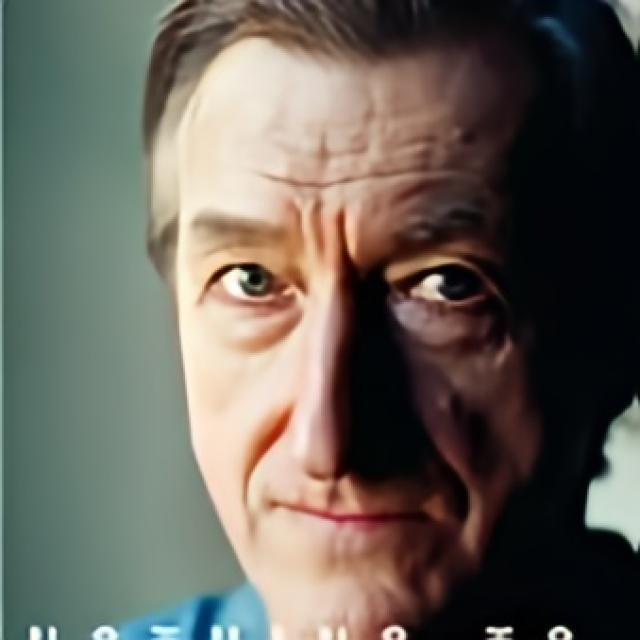content: (174, 64, 576, 631)
